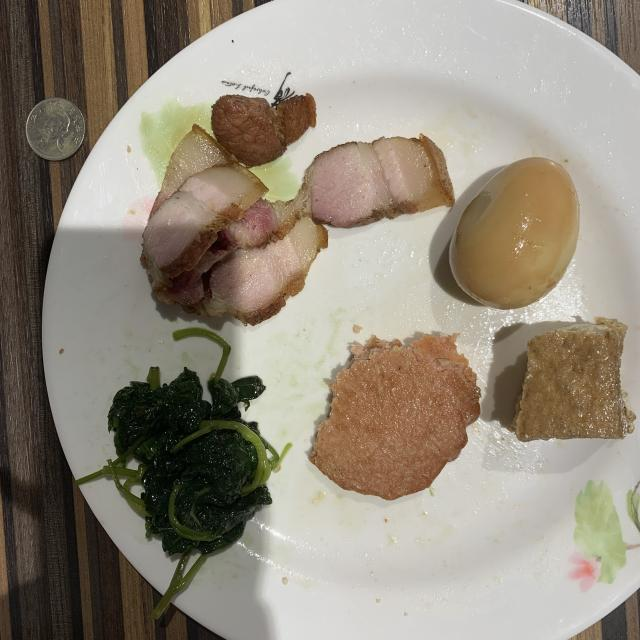Spam: (309, 335, 480, 500)
coin: (26, 98, 85, 161)
egg tofu: (512, 318, 635, 441)
grilled pork: (141, 89, 454, 324)
soy egg: (450, 158, 579, 309)
sweet potato leaves: (79, 328, 281, 619)
